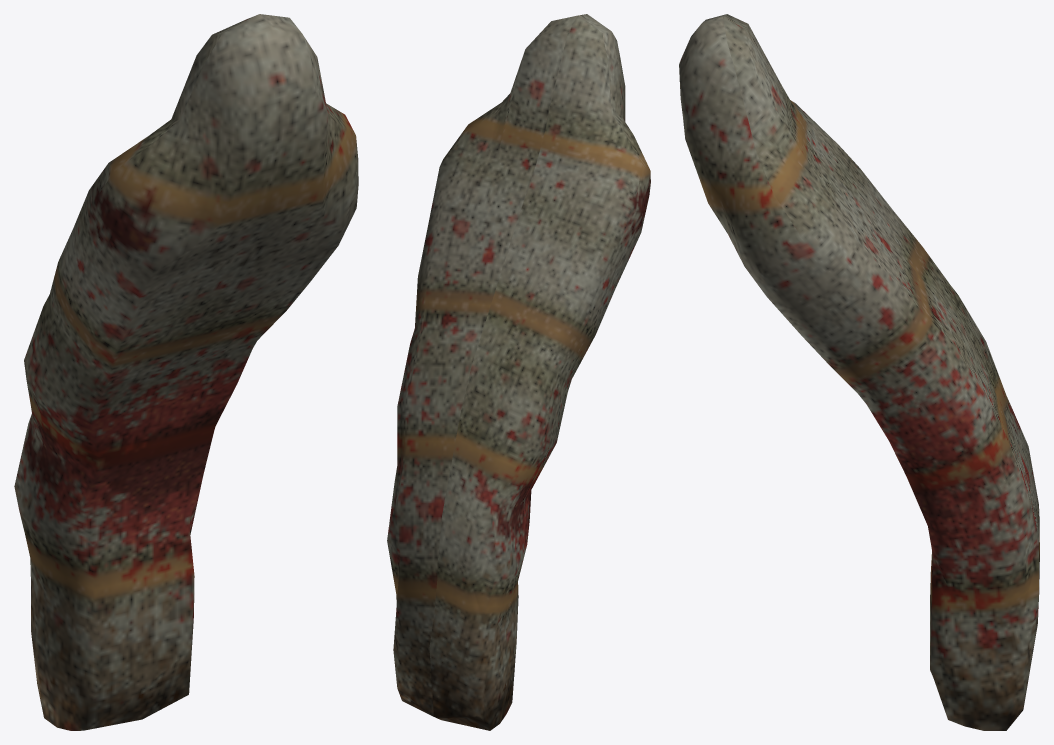
Rendered from BodyBagPose2.fbx.
The picture shows the model from 3 angles, left to right: view 1: azimuth 30°, elevation 25°; view 2: azimuth 150°, elevation 25°; view 3: azimuth 270°, elevation 25°; orthographic projection. The views are drawn at different scales.
Parts seen in each view (by area): view 1: BodyBag; view 2: BodyBag; view 3: BodyBag.
Part boxes in pixels (<box>): BodyBag: <box>14,14,358,730</box>; BodyBag: <box>387,14,650,730</box>; BodyBag: <box>679,14,1039,730</box>.
Bounding box in the file's own units: 135 × 414 × 194.
